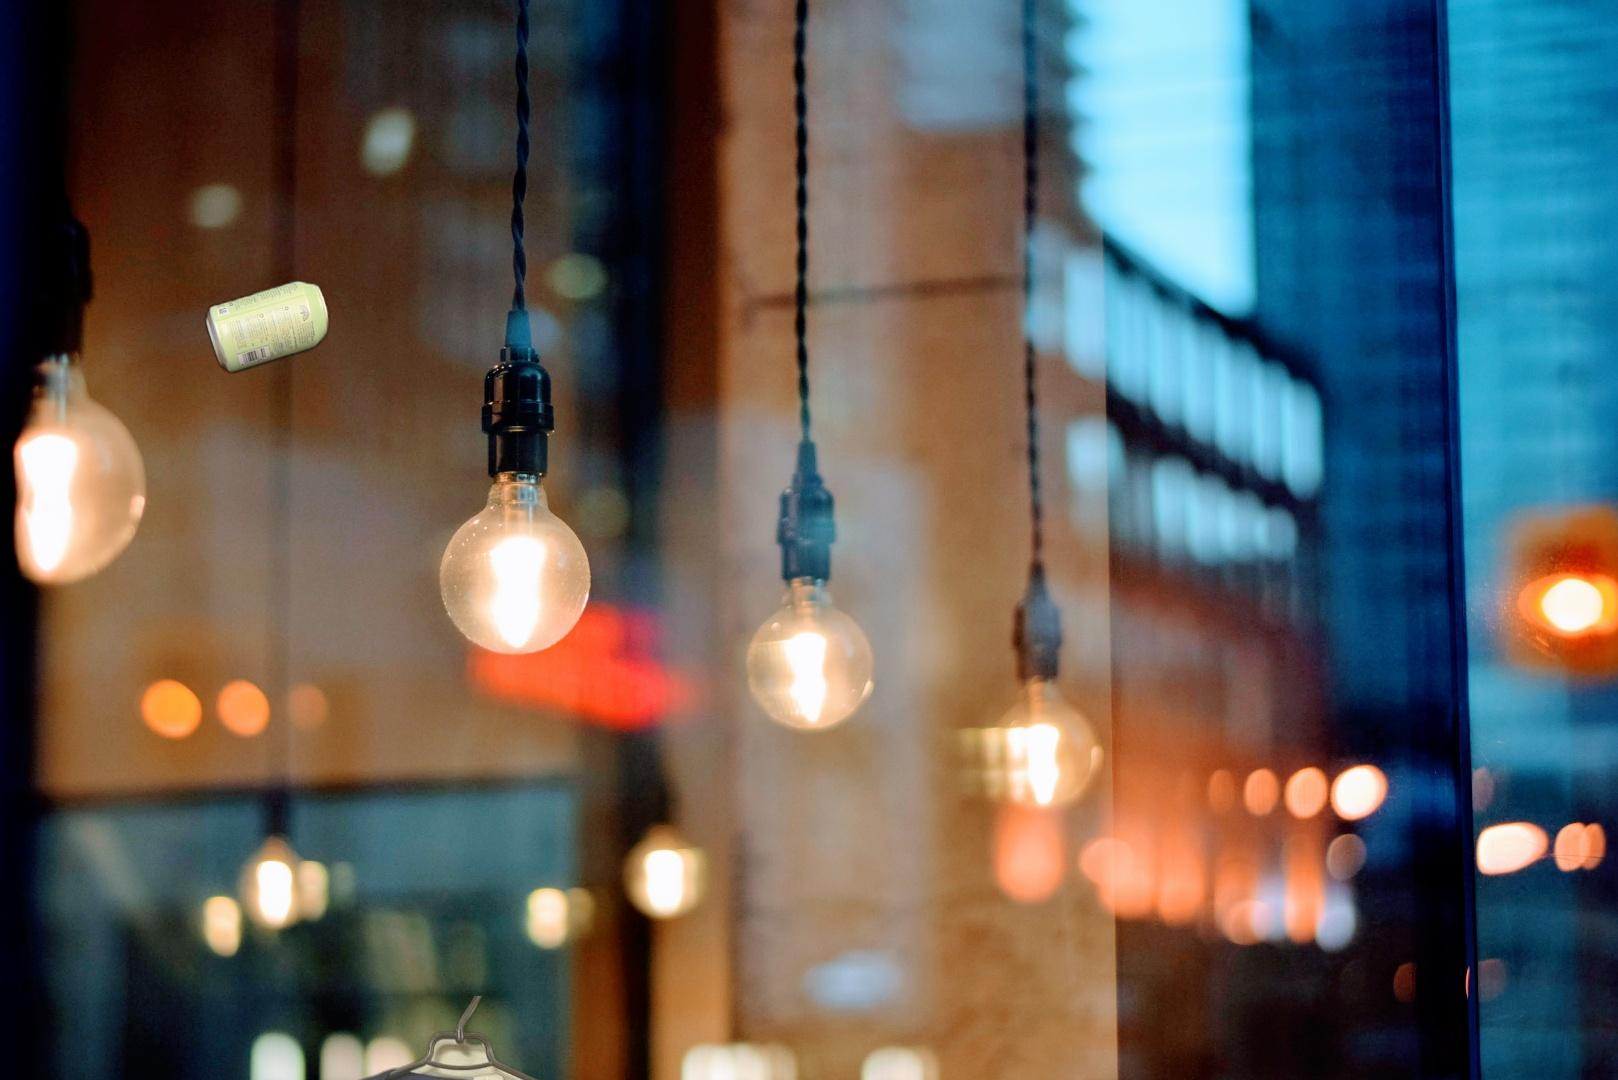clothes: (267, 996, 640, 1080)
metal-cans: (201, 274, 334, 380)
